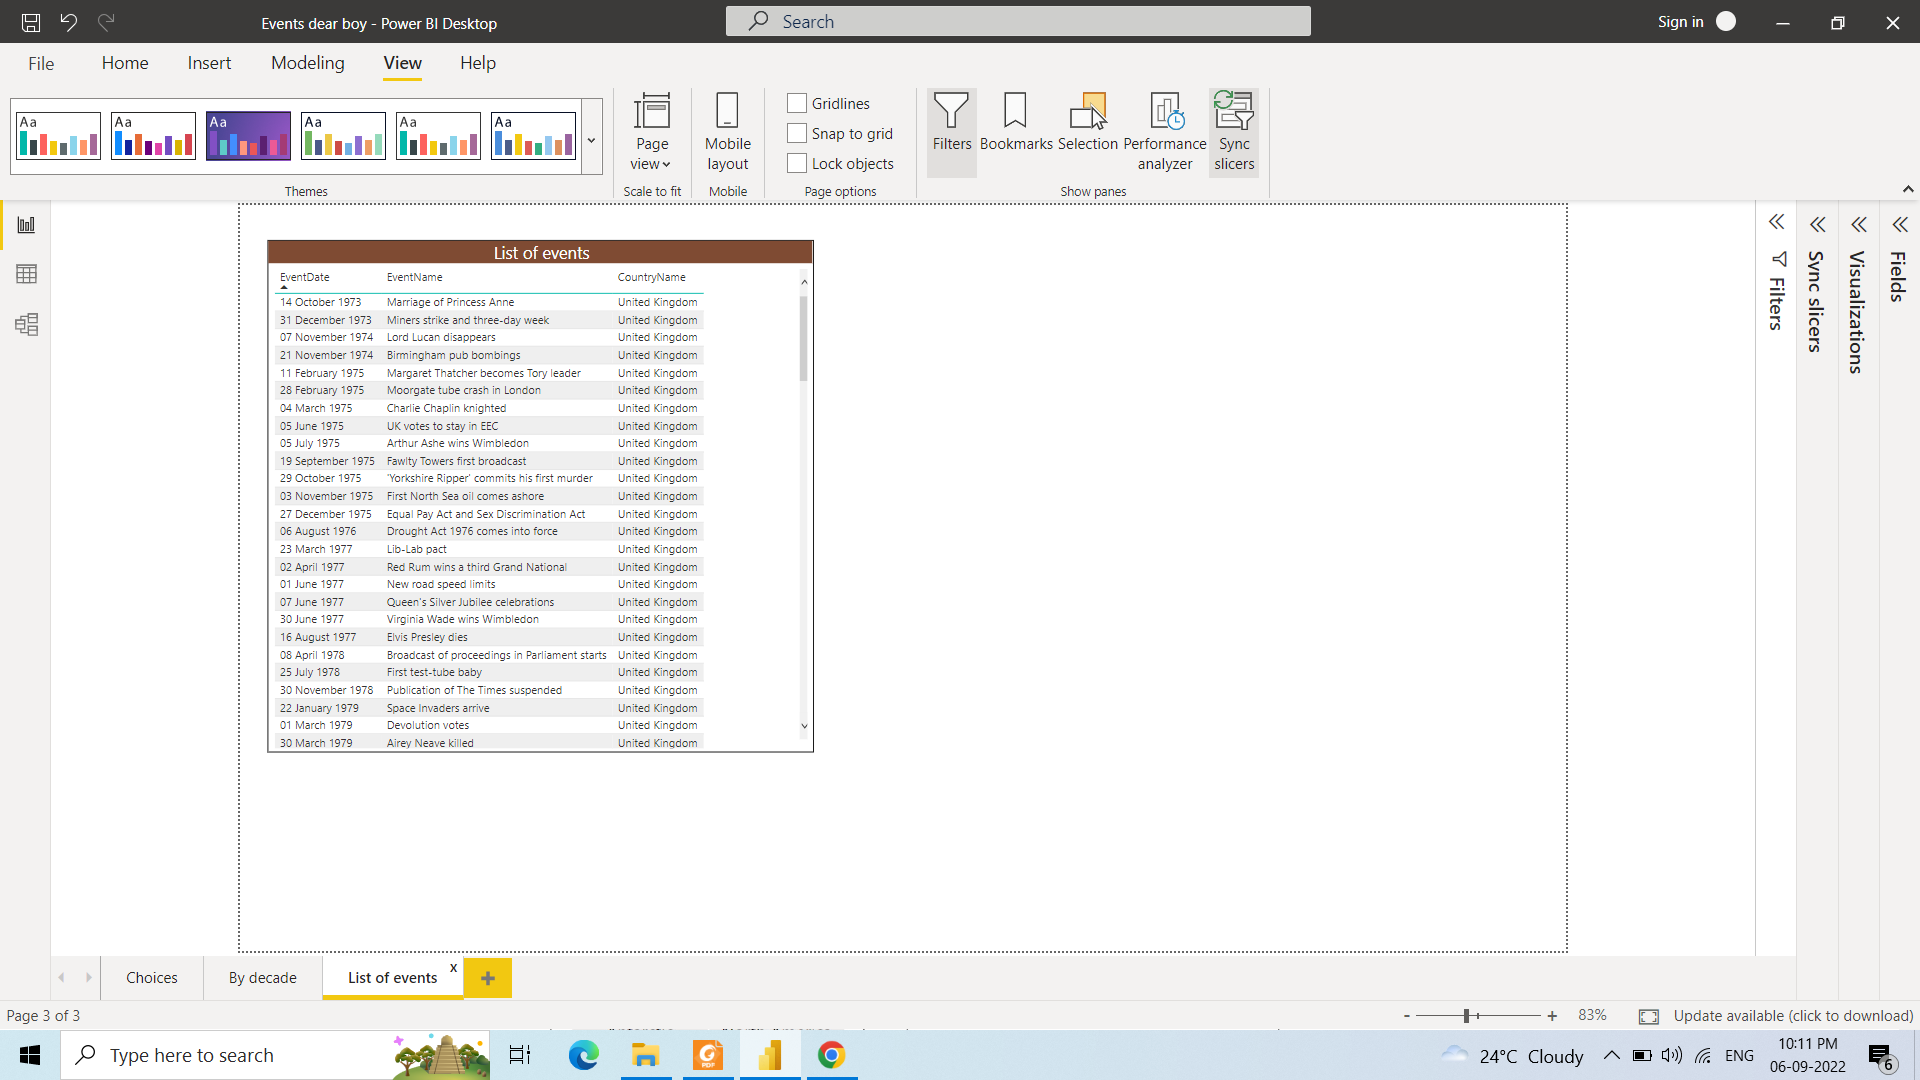

Layout of this report page (visuals, bound fields, positions):
{"tool":"powerbi","page":{"name":"List of events","canvas":[1280,720],"ordinal":2},"visuals":[{"type":"tableEx","title":"List of events","fields":{"Values":["Event.EventDate","Event.EventName","Country.CountryName"]},"box":[26.6,33.5,527,494.6],"z":0}]}

Visuals, with their boxes on the page's 1280x720 design canvas (x1, y1, x2, y2). These are canvas units, not pixel positions in the 1920x1080 screenshot, which may show the page scaled, cropped or inside an application window:
"List of events" tableEx: box(27, 34, 554, 528)
